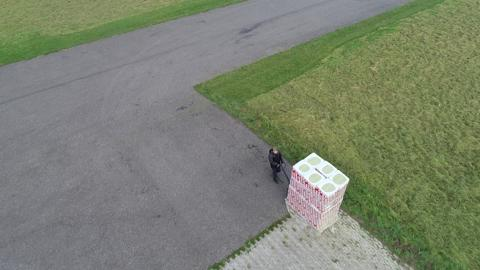RockwoolPallet: (285, 152, 350, 232)
